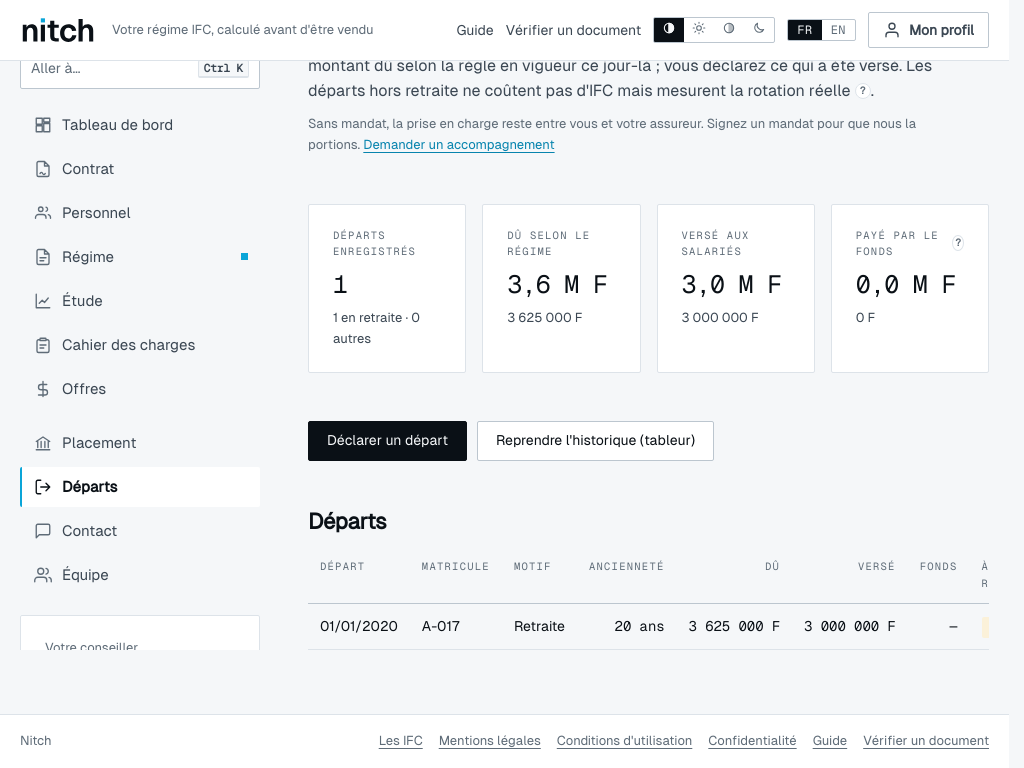
les départs › la liste dit le dû recalculé, et le détail l'explique
(page scrolled)
Expected: the text "3 625 000 F" is shown, 507,310 -> 582,325
Expected: the text "la prise en charge reste entre vous et votre assureur" is shown, 308,116 -> 916,152
What coordinates should you click on to do the following:
click the cell "A-017"
I would click on:
 (456, 626)
Its box is 410,603 -> 502,650.
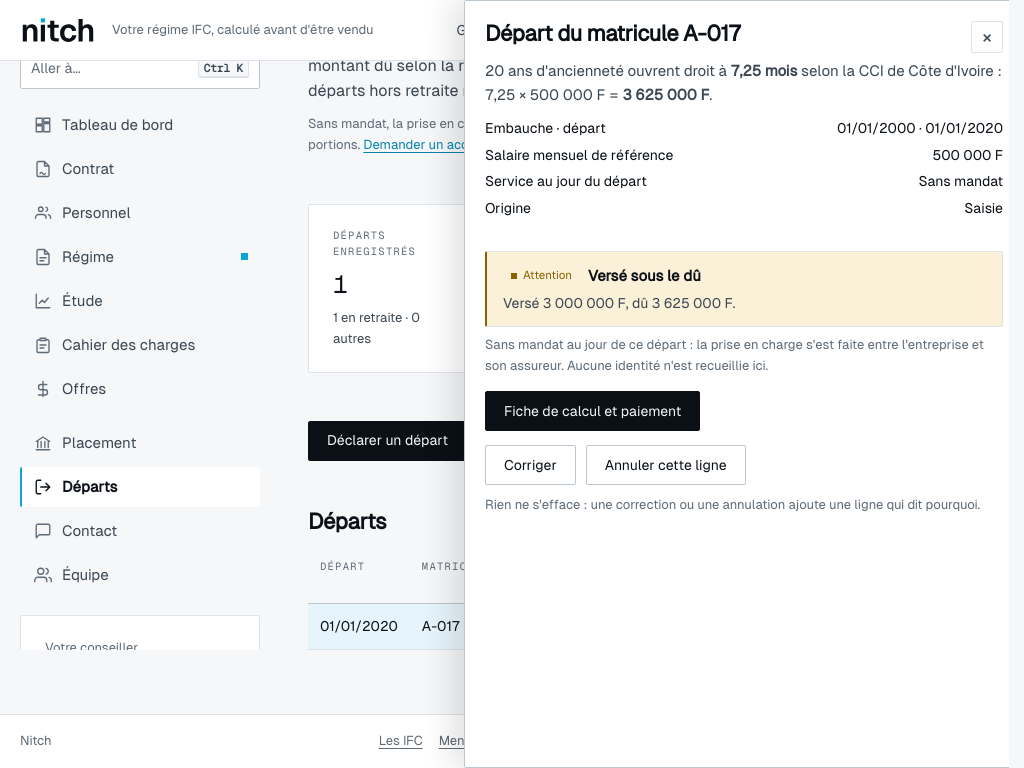
Result: the text "ans d'ancienneté ouvrent droit à" shows "7,25 × 500 000 F = 3 625 000 F" at 485,59 -> 1003,107
Result: the text "Versé 3 000 000 F, dû 3 625 000 F." is shown at 503,295 -> 735,311
What coordinates should you click on to do the following:
click the button named "Fermer"
I would click on:
 (987, 37)
Its box is 971,21 -> 1003,53.
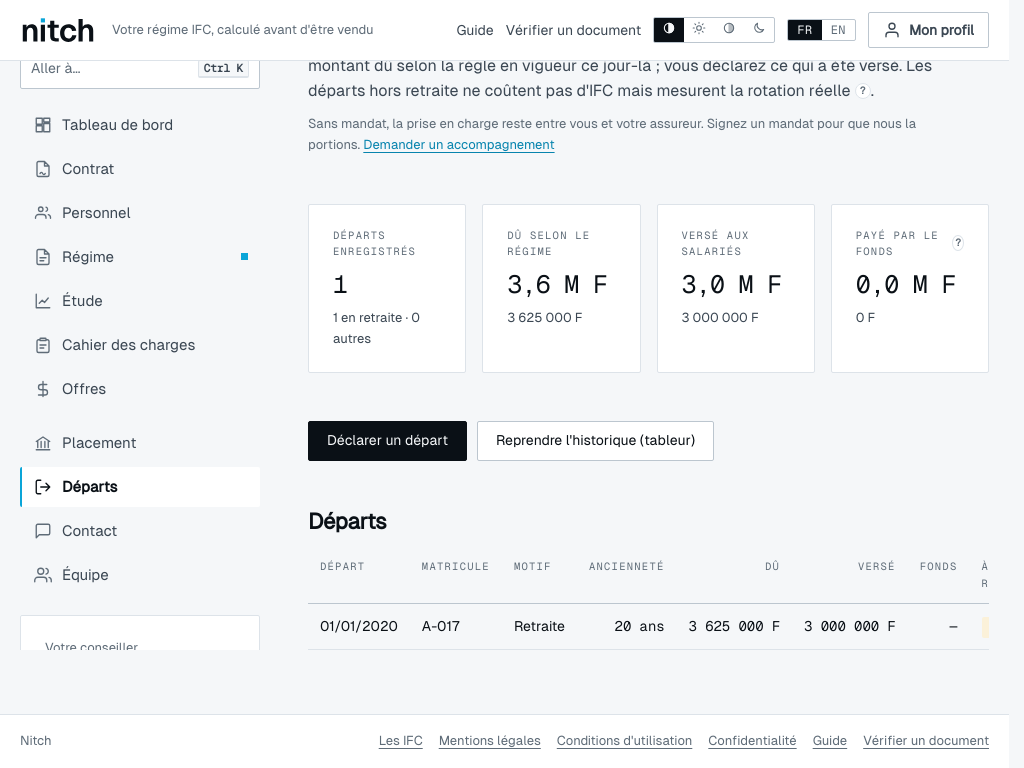
Result: the text "ans d'ancienneté ouvrent droit à" is gone
